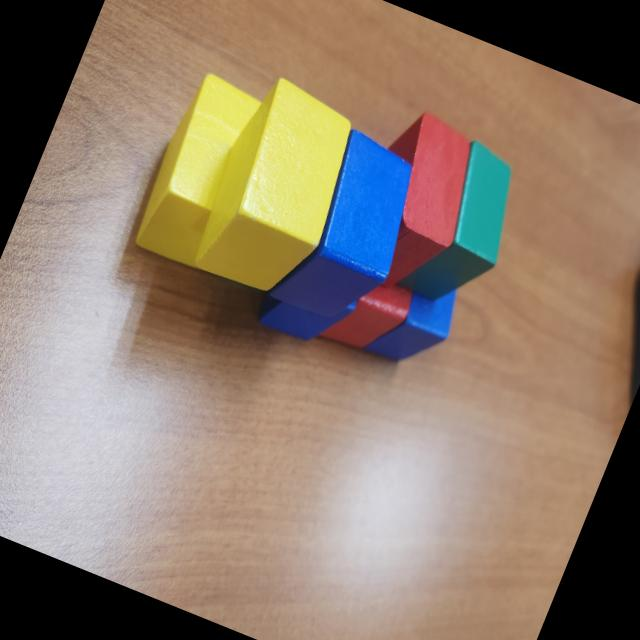blue: (264, 120, 436, 337), (251, 218, 379, 358), (360, 260, 469, 380)
green: (391, 130, 536, 318)
red: (336, 103, 495, 304), (312, 259, 424, 370)
yellow: (184, 68, 372, 308), (126, 66, 280, 278)
